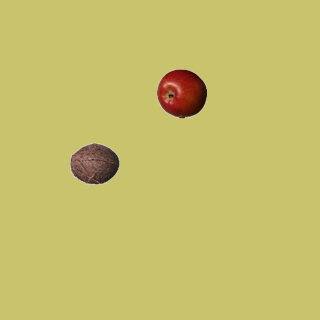Apple Braeburn: (156, 68, 206, 118)
Cocos: (69, 138, 119, 188)
